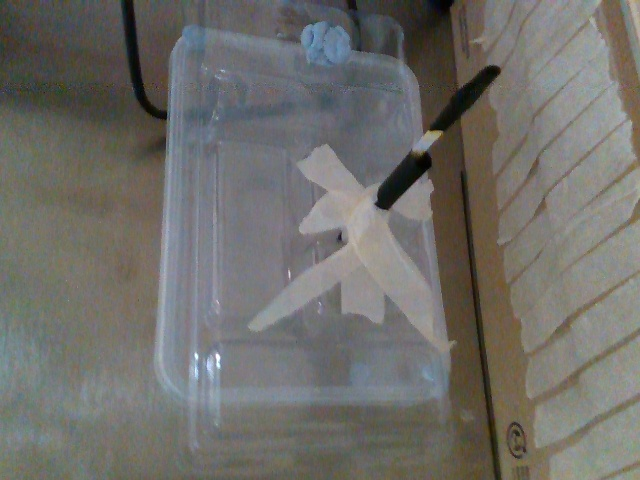test_strip: (410, 64, 498, 159)
